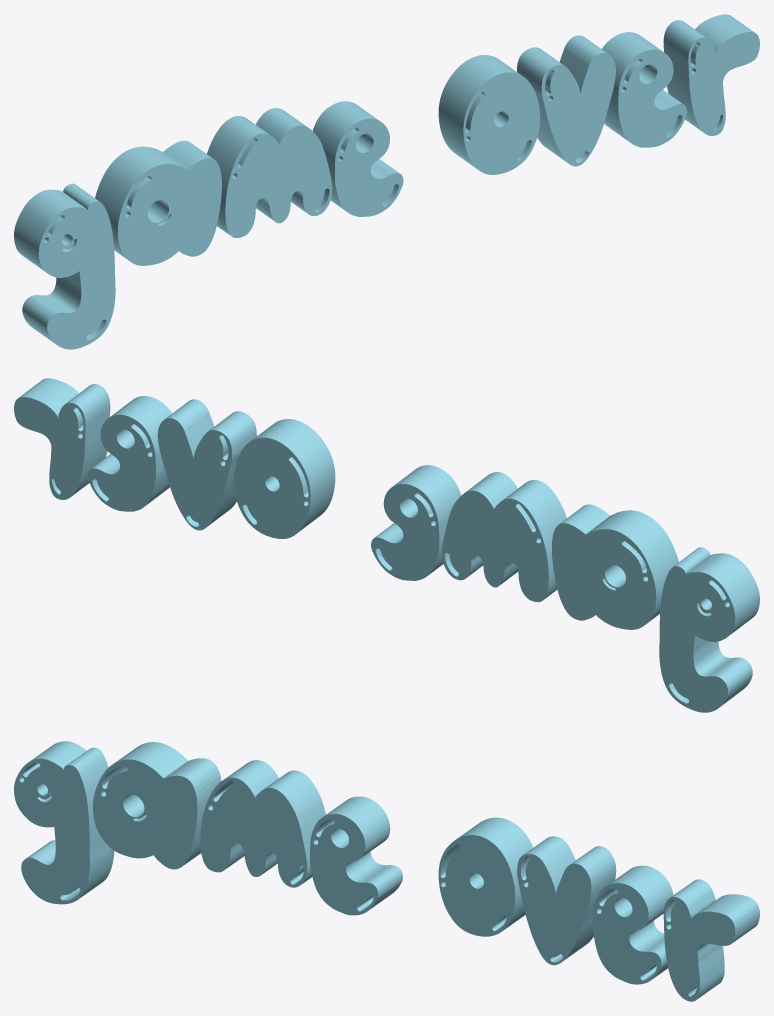
Rendered from gameover.fbx.
The picture shows the model from 3 angles, top to bottom: view 1: azimuth 30°, elevation 25°; view 2: azimuth 150°, elevation 25°; view 3: azimuth 330°, elevation 25°; orthographic projection.
Visible parts, largest first — view 1: 텍스트; view 2: 텍스트; view 3: 텍스트.
Part boxes in pixels (left/top/right/bottom): 텍스트: left=14, top=14, right=759, bottom=349; 텍스트: left=14, top=378, right=759, bottom=712; 텍스트: left=14, top=741, right=759, bottom=1001.
Size of the model in its own units: 336 by 76.12 by 21.05.
